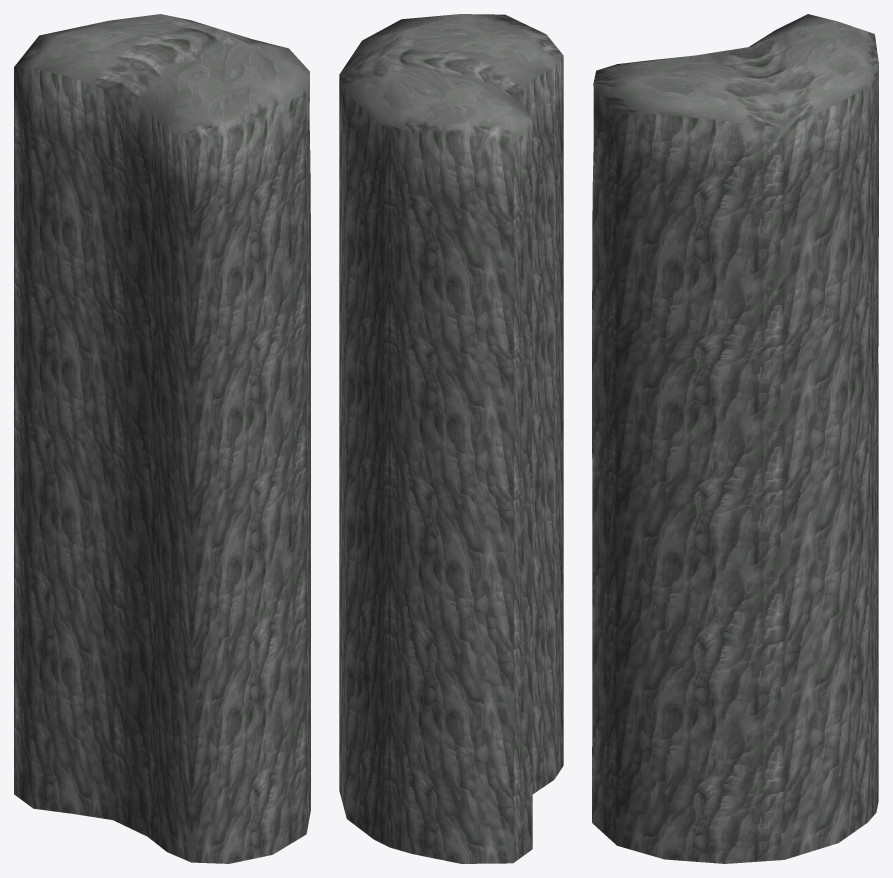
Rendered from SWORDLIGHT20_PS-AREA01 PLATFORM02.fbx.
3 views of the same model, side by side, from view 1: azimuth 30°, elevation 25°; view 2: azimuth 150°, elevation 25°; view 3: azimuth 270°, elevation 25° (orthographic). The views are drawn at different scales.
Visible parts, largest first — view 1: SWORDLIGHT20_PS-AREA01 PLATFORM02; view 2: SWORDLIGHT20_PS-AREA01 PLATFORM02; view 3: SWORDLIGHT20_PS-AREA01 PLATFORM02.
Boxes of the visible parts, x1=… form: SWORDLIGHT20_PS-AREA01 PLATFORM02: x1=14, y1=14, x2=310, y2=863; SWORDLIGHT20_PS-AREA01 PLATFORM02: x1=339, y1=14, x2=563, y2=863; SWORDLIGHT20_PS-AREA01 PLATFORM02: x1=592, y1=14, x2=878, y2=863.
Bounding box in the file's own units: 74840 × 250829 × 85708.
2 materials, 2 textured.
